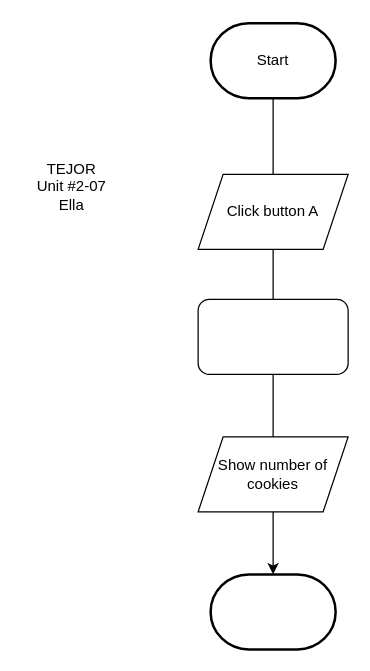
The diagram is 370 pixels wide and 671 high, and some of its shapes have lost their labels. The box of each missing label's shape, as (x1, y1, x2, y2) in pixels:
cookieClickNumber = cookieClickNumber + 1: (197, 298, 348, 374)
Stop: (209, 572, 336, 650)
